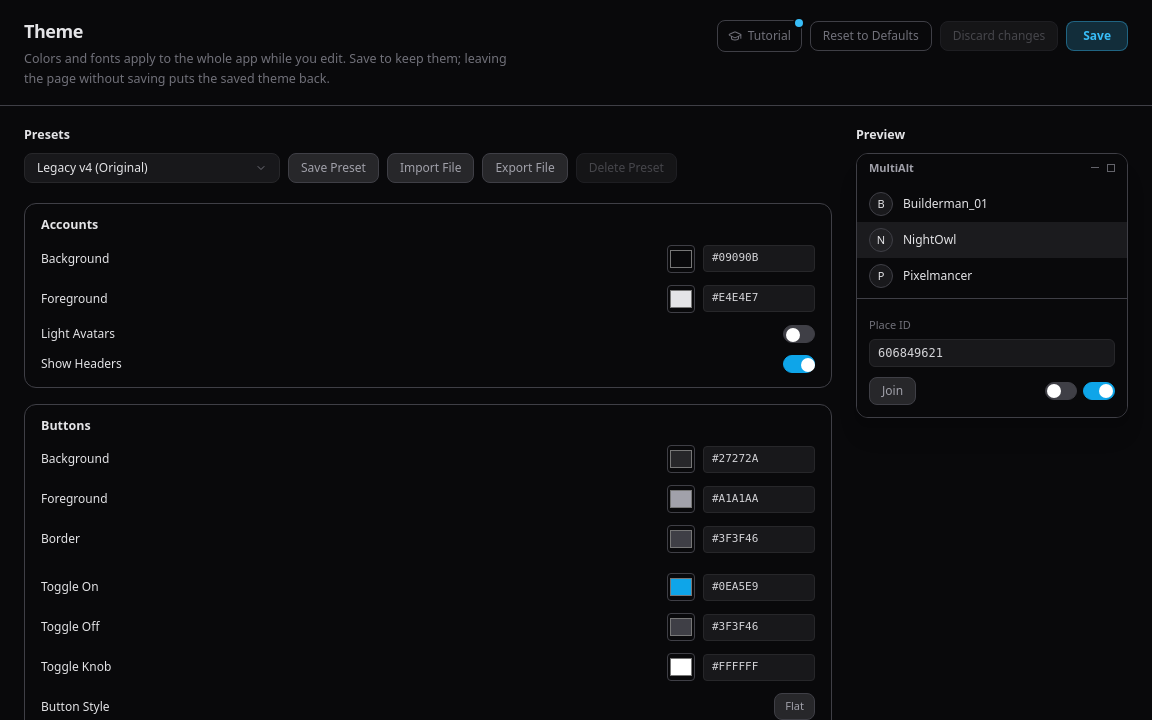
it: ThemePage — tutorial › walks the Theme tutorial without saving or leaving the page
The width and height of the screenshot is (1152, 720).
Click the button "Tutorial": click(759, 36) [717,20,802,52]
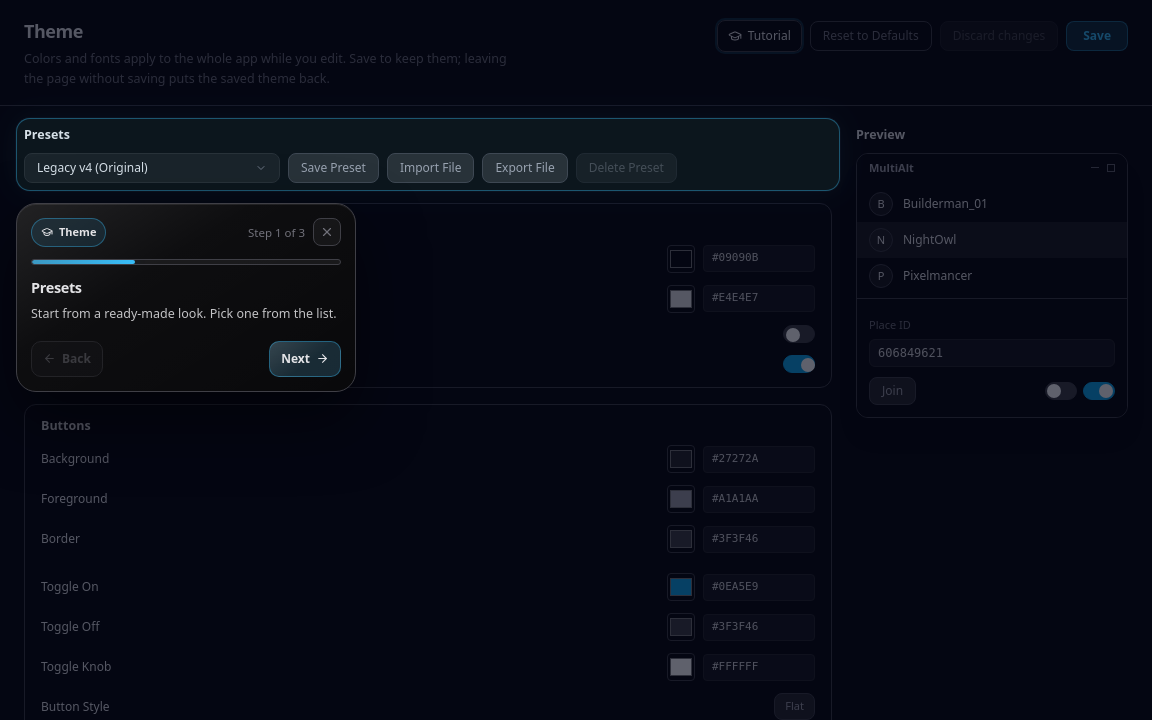
Click the button "Next": click(305, 358) [269,340,341,376]
(page scrolled)
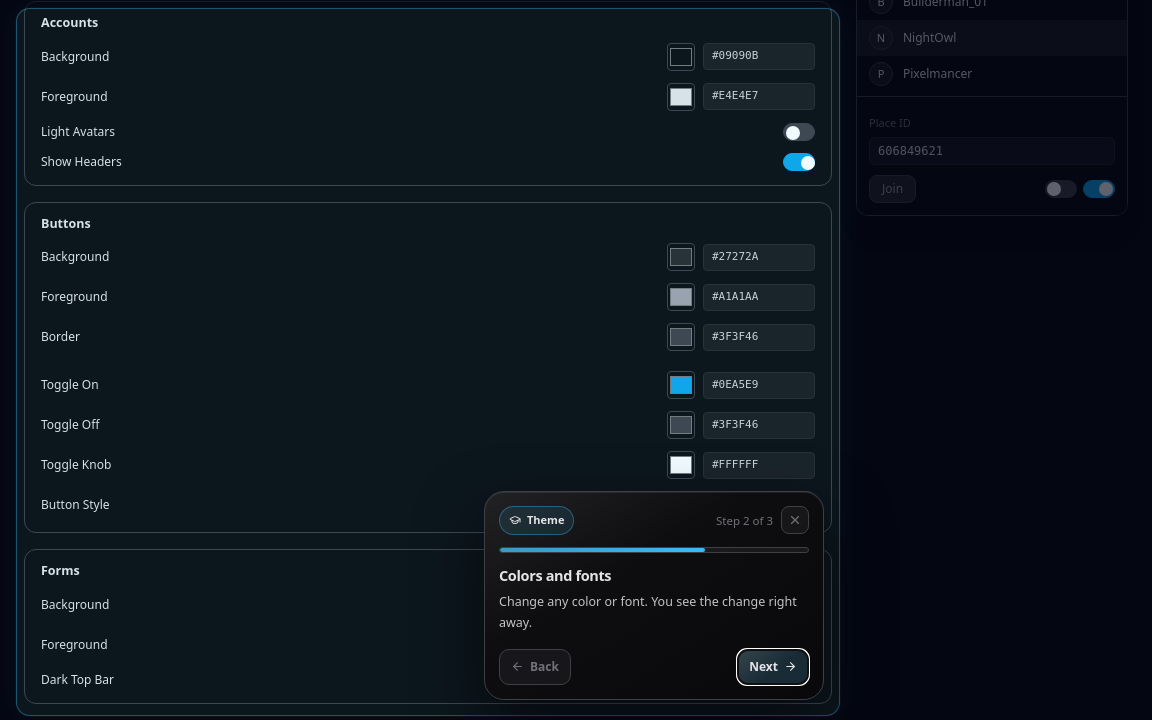
Result: the dialog has attribute data-step-id="colors" at [484,491,824,700]
Click the button "Next": click(773, 667) [737,649,809,685]
(page scrolled)
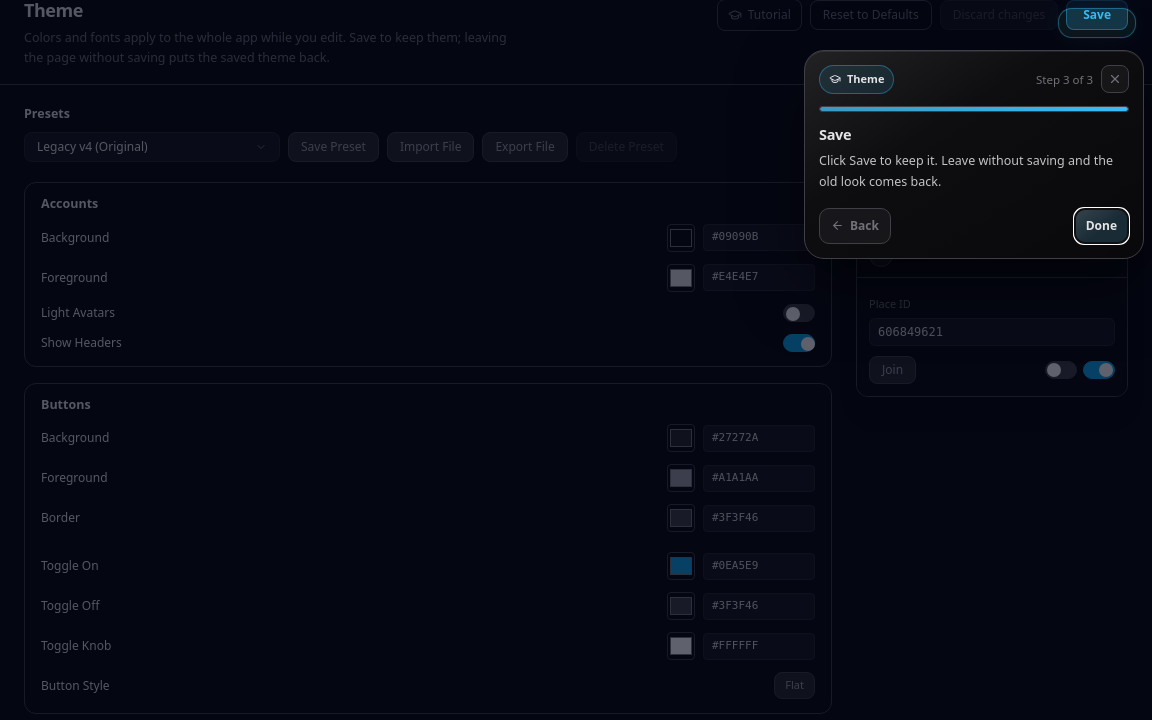
Result: the dialog has attribute data-step-id="save" at [804,50,1144,259]
Click the button "Done": click(1101, 226) [1074,208,1129,244]
(page scrolled)
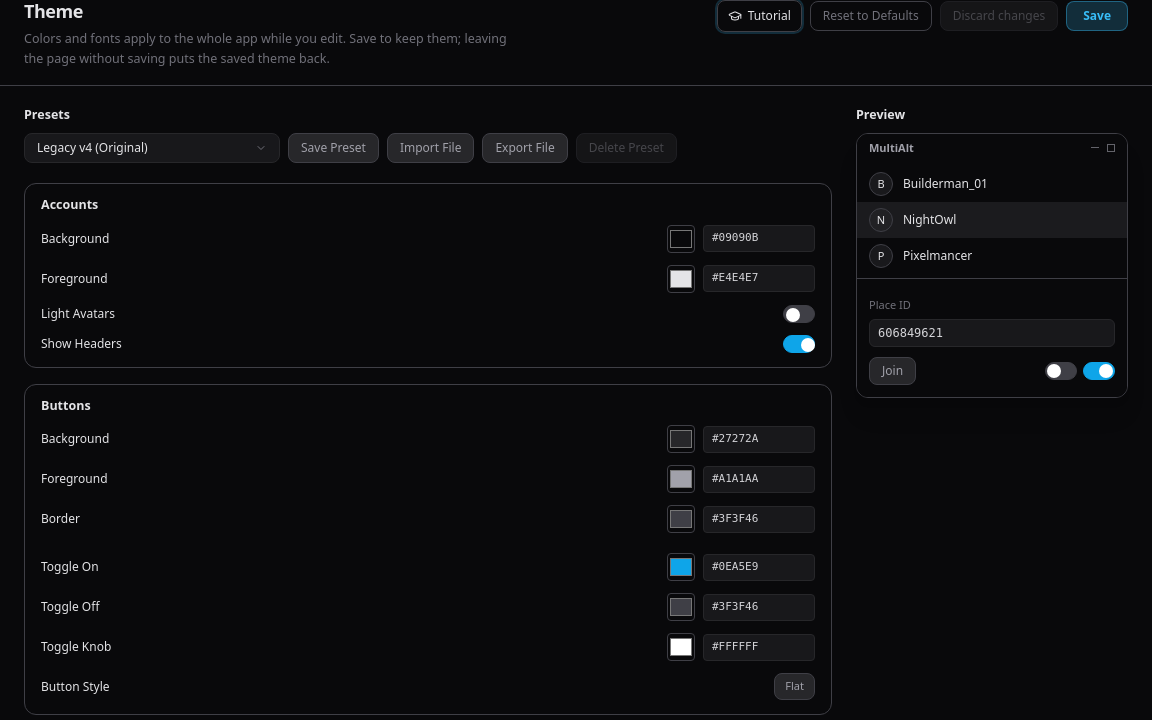
Result: the dialog is gone
